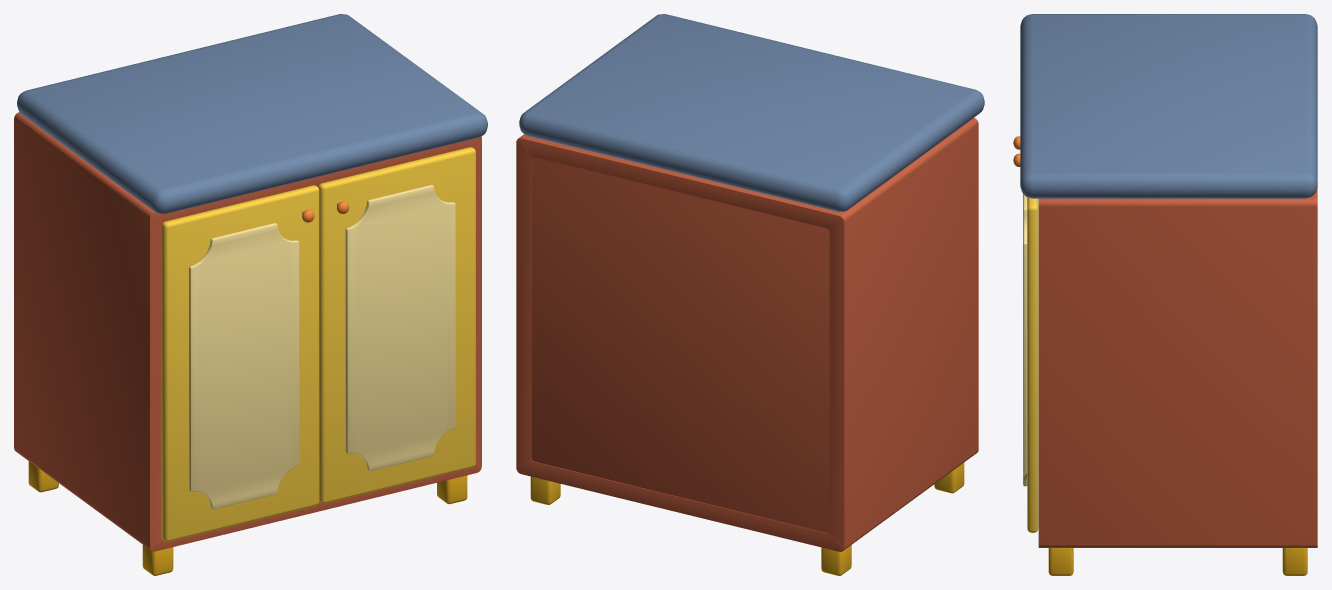
File: armario_cozinha_base_2portas_classica.glb
3 views of the same model, side by side, from view 1: azimuth 30°, elevation 25°; view 2: azimuth 150°, elevation 25°; view 3: azimuth 270°, elevation 25° (orthographic). The views are drawn at different scales.
Parts seen in each view (by area): view 1: armario_cozinha_base_2portas_classica, porta_1, porta_2; view 2: armario_cozinha_base_2portas_classica; view 3: armario_cozinha_base_2portas_classica, porta_2.
Boxes of the visible parts, x1,y1,x2,y2 form: armario_cozinha_base_2portas_classica: (14,14,487,575); porta_1: (161,185,319,541); porta_2: (318,147,475,503); armario_cozinha_base_2portas_classica: (516,14,984,575); armario_cozinha_base_2portas_classica: (1020,14,1317,575); porta_2: (1013,153,1038,532).
Bounding box in the file's own units: 0.798 × 0.9 × 0.6131.
Materials: 1 (1 with a texture image).
